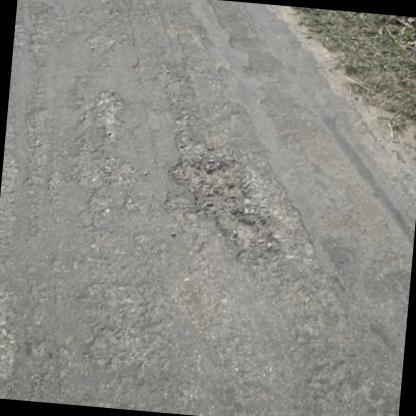pothole: (167, 132, 290, 272), (82, 283, 150, 370), (90, 87, 127, 142)
